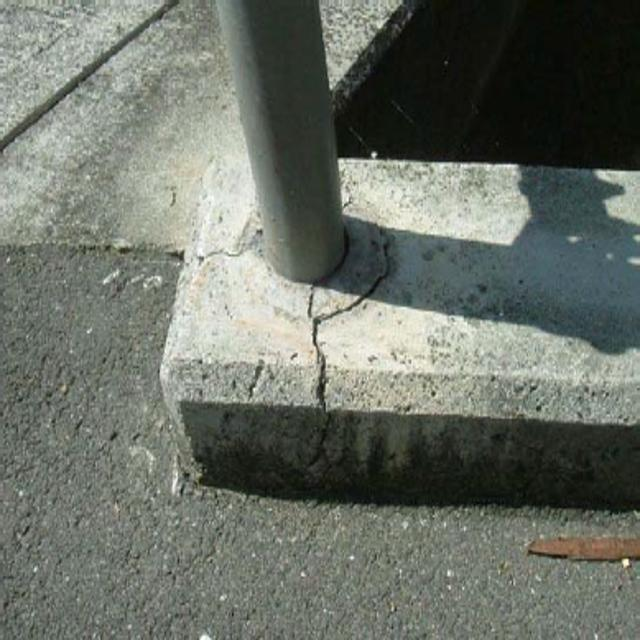crack: (296, 284, 338, 449)
